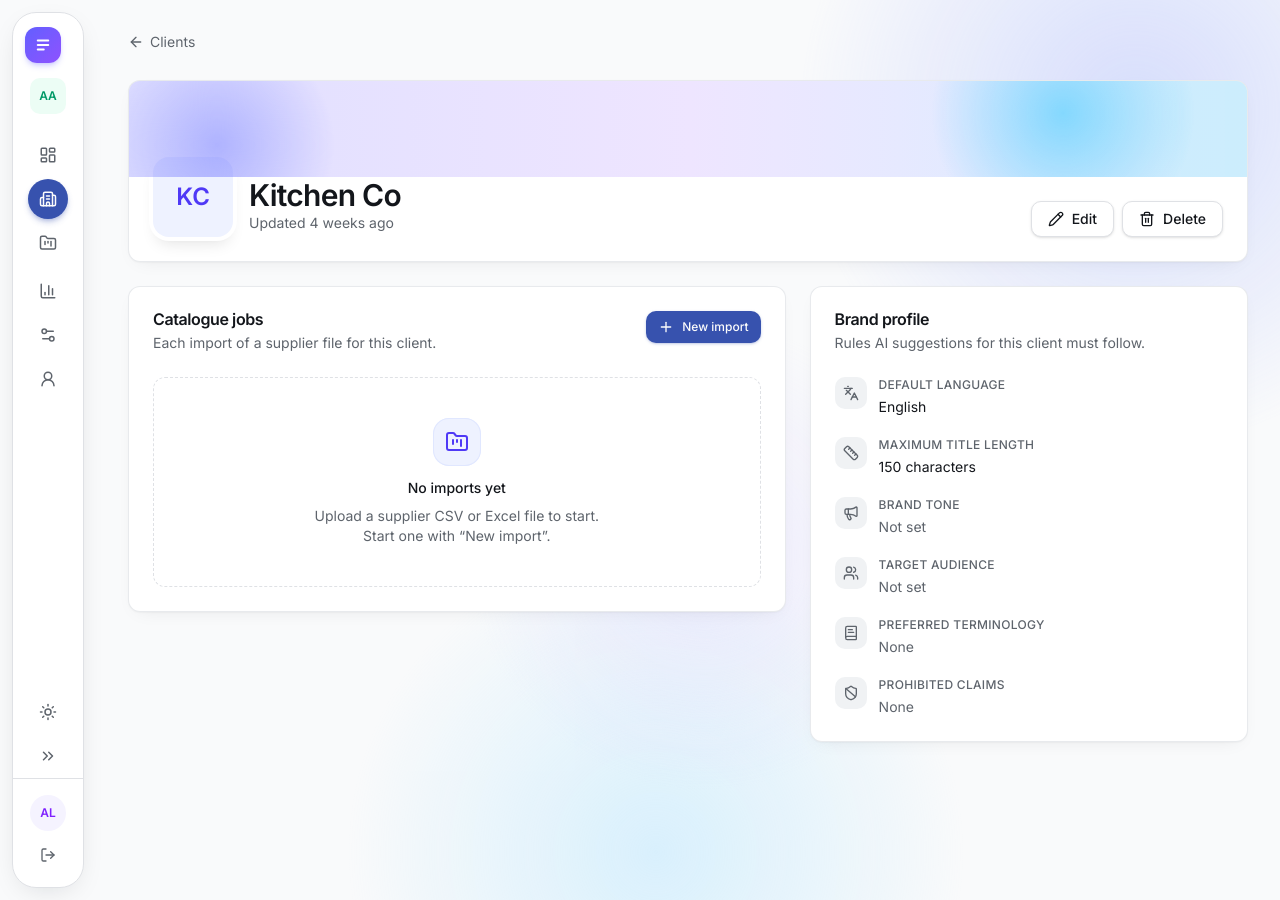
Test: starting an import from a client › shows the plan limit message when no more jobs are allowed
Click the button "New import". click: (703, 327)
box: [646, 311, 761, 343]
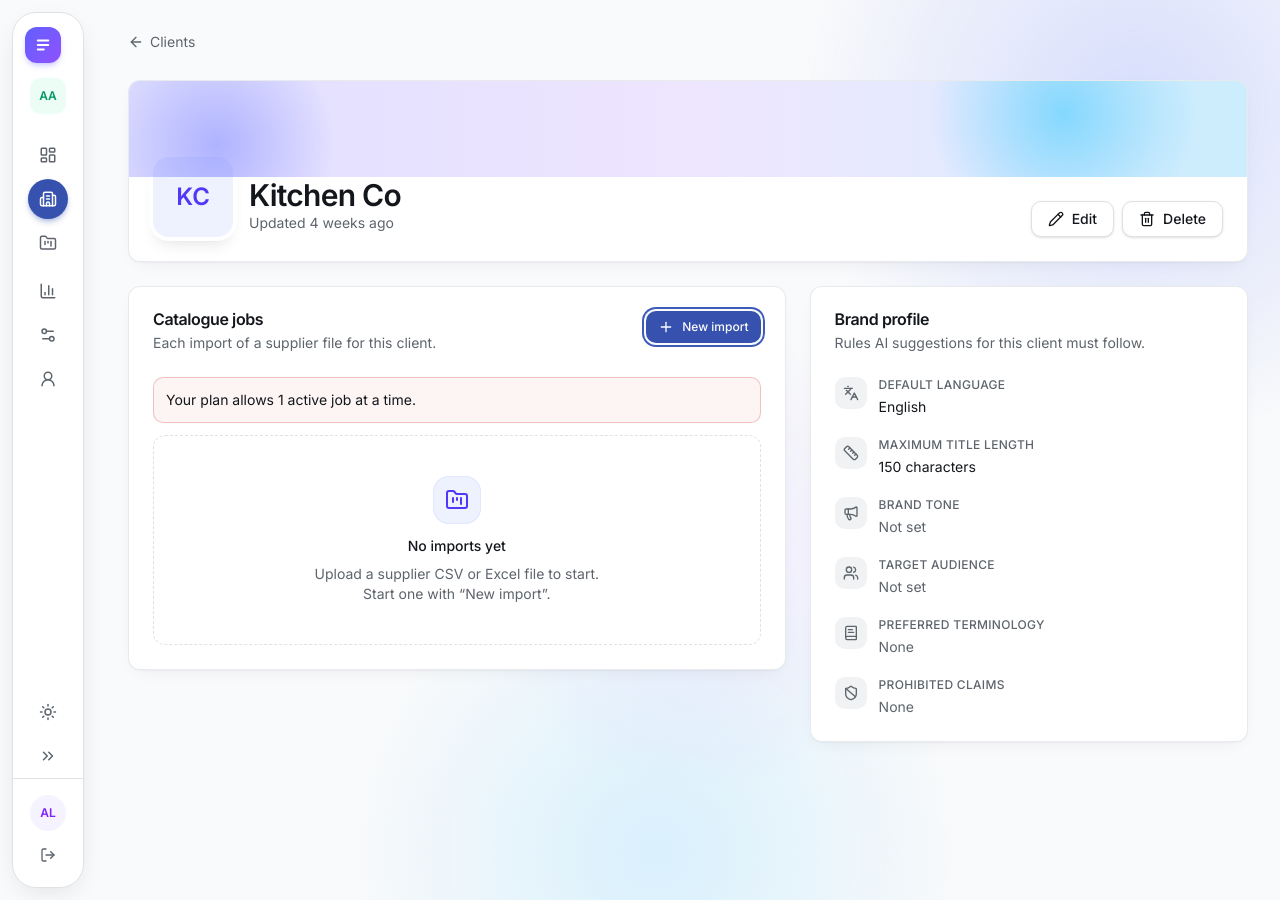
Now the message reads "Your plan allows 1 active job at a time.", box [166, 391, 416, 408]
